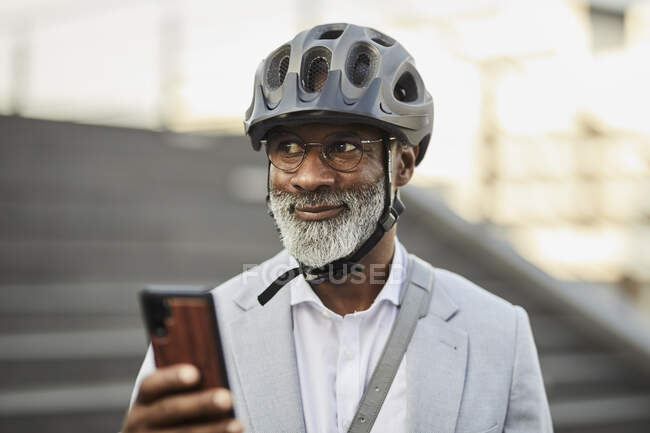helmet: (244, 24, 434, 266)
